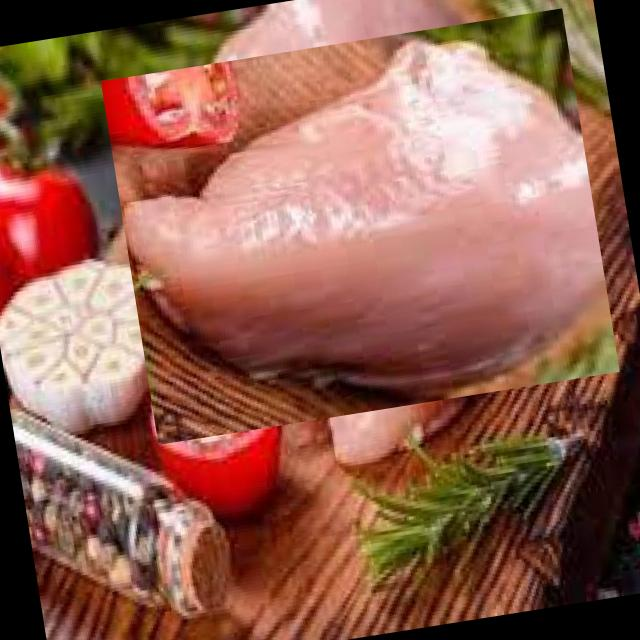chicken: (121, 0, 599, 465)
